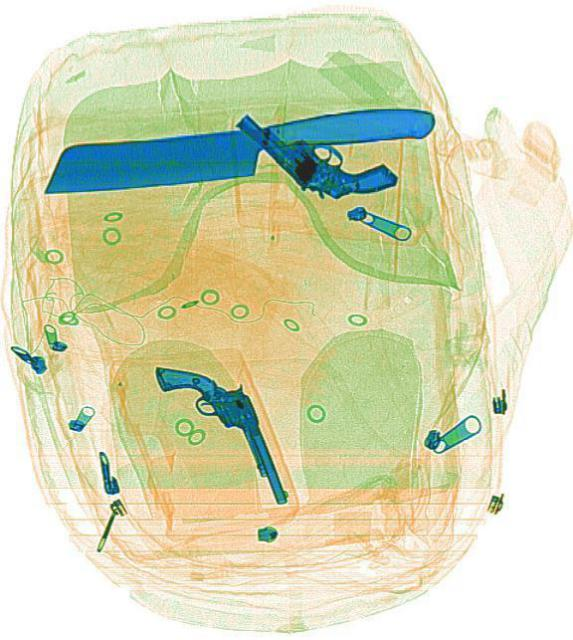Gun: (233, 67, 398, 235), (150, 338, 289, 528)
Knife: (39, 102, 434, 194)
